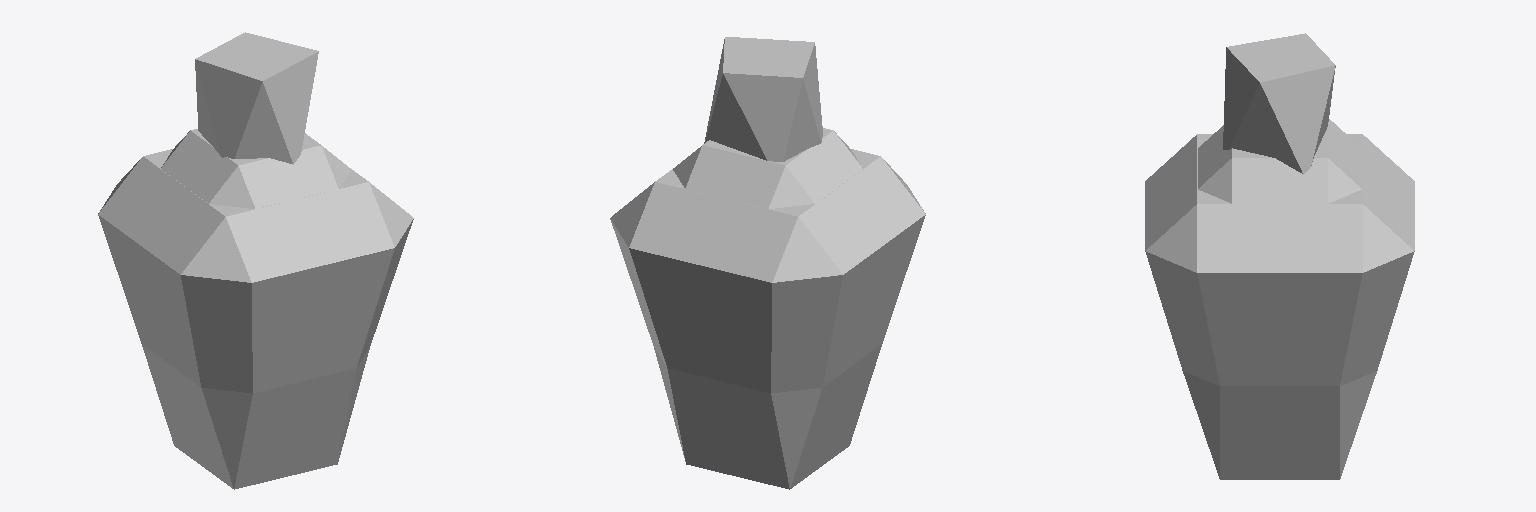
File: InvinciblePotion.obj
3 views of the same model, side by side, from view 1: azimuth 30°, elevation 25°; view 2: azimuth 150°, elevation 25°; view 3: azimuth 270°, elevation 25° (orthographic).
Visible parts, largest first — view 1: Cylinder; view 2: Cylinder; view 3: Cylinder.
Boxes of the visible parts, <box> form: Cylinder: <box>98,32,413,489</box>; Cylinder: <box>610,37,925,489</box>; Cylinder: <box>1145,33,1414,479</box>.
Size of the model in its own units: 2 by 3.26 by 2.